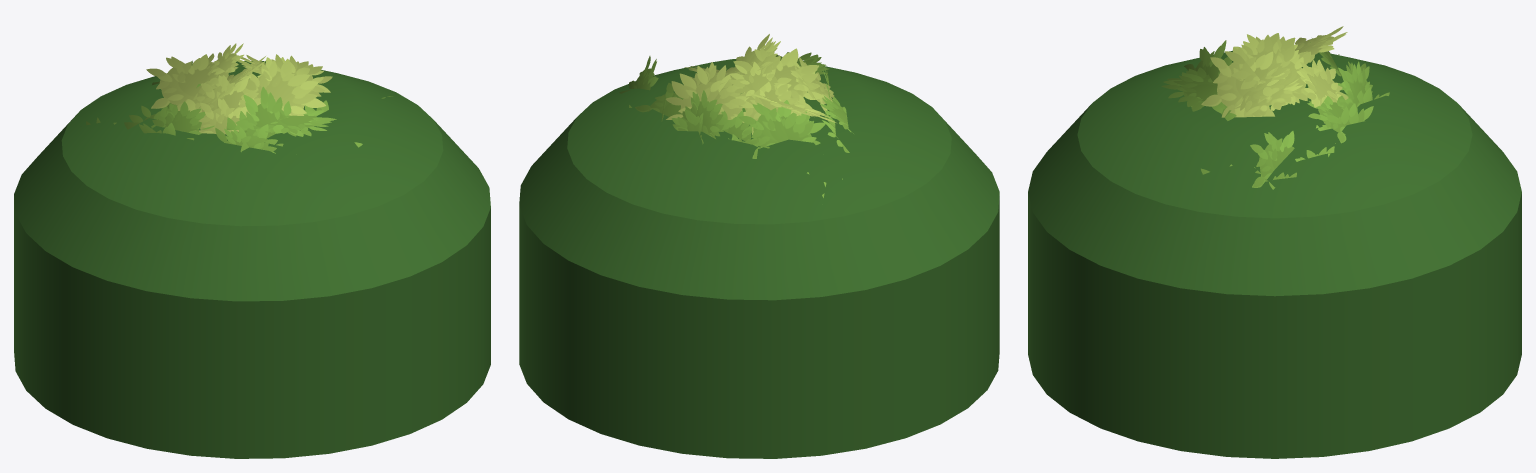
The model's file is shrub_round.glb.
The picture shows the model from 3 angles, left to right: view 1: azimuth 30°, elevation 25°; view 2: azimuth 150°, elevation 25°; view 3: azimuth 270°, elevation 25°; orthographic projection. The views are drawn at different scales.
Visible parts, largest first — view 1: body; view 2: body; view 3: body.
Boxes of the visible parts, x1=… form: body: x1=14, y1=43, x2=490, y2=458; body: x1=519, y1=34, x2=999, y2=458; body: x1=1028, y1=26, x2=1521, y2=458.
Bounding box in the file's own units: 1.1 × 0.82 × 1.1.
2 materials, 1 textured.
